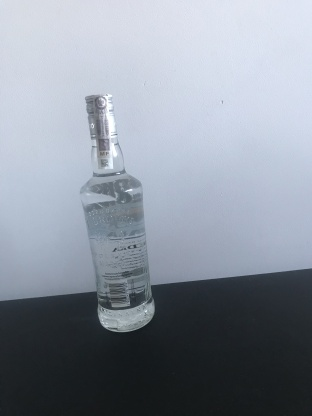nakretka: (83, 91, 120, 141)
